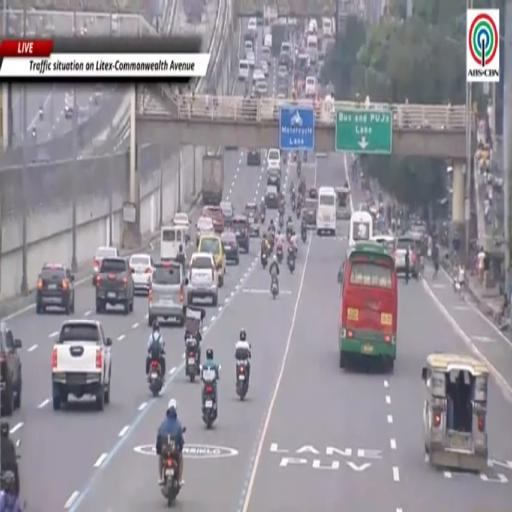bus: (339, 242, 398, 372), (316, 187, 336, 236), (349, 212, 373, 246)
car: (52, 319, 112, 410), (148, 262, 185, 326), (96, 258, 134, 314), (0, 323, 22, 415), (36, 264, 74, 314), (188, 252, 218, 306), (198, 235, 225, 286), (394, 236, 419, 278), (129, 254, 153, 294), (93, 247, 118, 285), (232, 215, 250, 252), (202, 205, 224, 232), (221, 231, 239, 264), (196, 216, 214, 246), (244, 203, 260, 236), (302, 199, 317, 228), (220, 201, 233, 226), (265, 185, 278, 209), (267, 149, 281, 171), (267, 168, 280, 190), (64, 94, 74, 119), (173, 213, 190, 227), (247, 149, 261, 166), (254, 79, 267, 97), (239, 60, 249, 81), (253, 69, 266, 84), (277, 82, 288, 97), (277, 64, 288, 79), (248, 19, 257, 36), (246, 52, 255, 68), (245, 39, 254, 55), (261, 60, 269, 77), (308, 188, 318, 199), (264, 34, 272, 47), (359, 202, 369, 212), (277, 92, 285, 99)
jeepney: (422, 354, 489, 472)
motorcycle: (160, 438, 180, 506), (201, 366, 217, 429), (186, 336, 200, 381), (149, 360, 163, 396), (236, 361, 248, 399), (288, 251, 296, 274), (271, 276, 278, 298), (286, 223, 293, 242), (276, 246, 283, 263), (261, 251, 267, 269), (291, 196, 296, 212), (301, 227, 306, 243), (279, 214, 284, 228), (296, 204, 301, 218), (297, 162, 301, 178), (39, 108, 43, 120), (283, 152, 287, 164), (32, 127, 36, 138), (304, 151, 307, 163)
truck: (202, 154, 223, 205), (182, 0, 205, 24)
